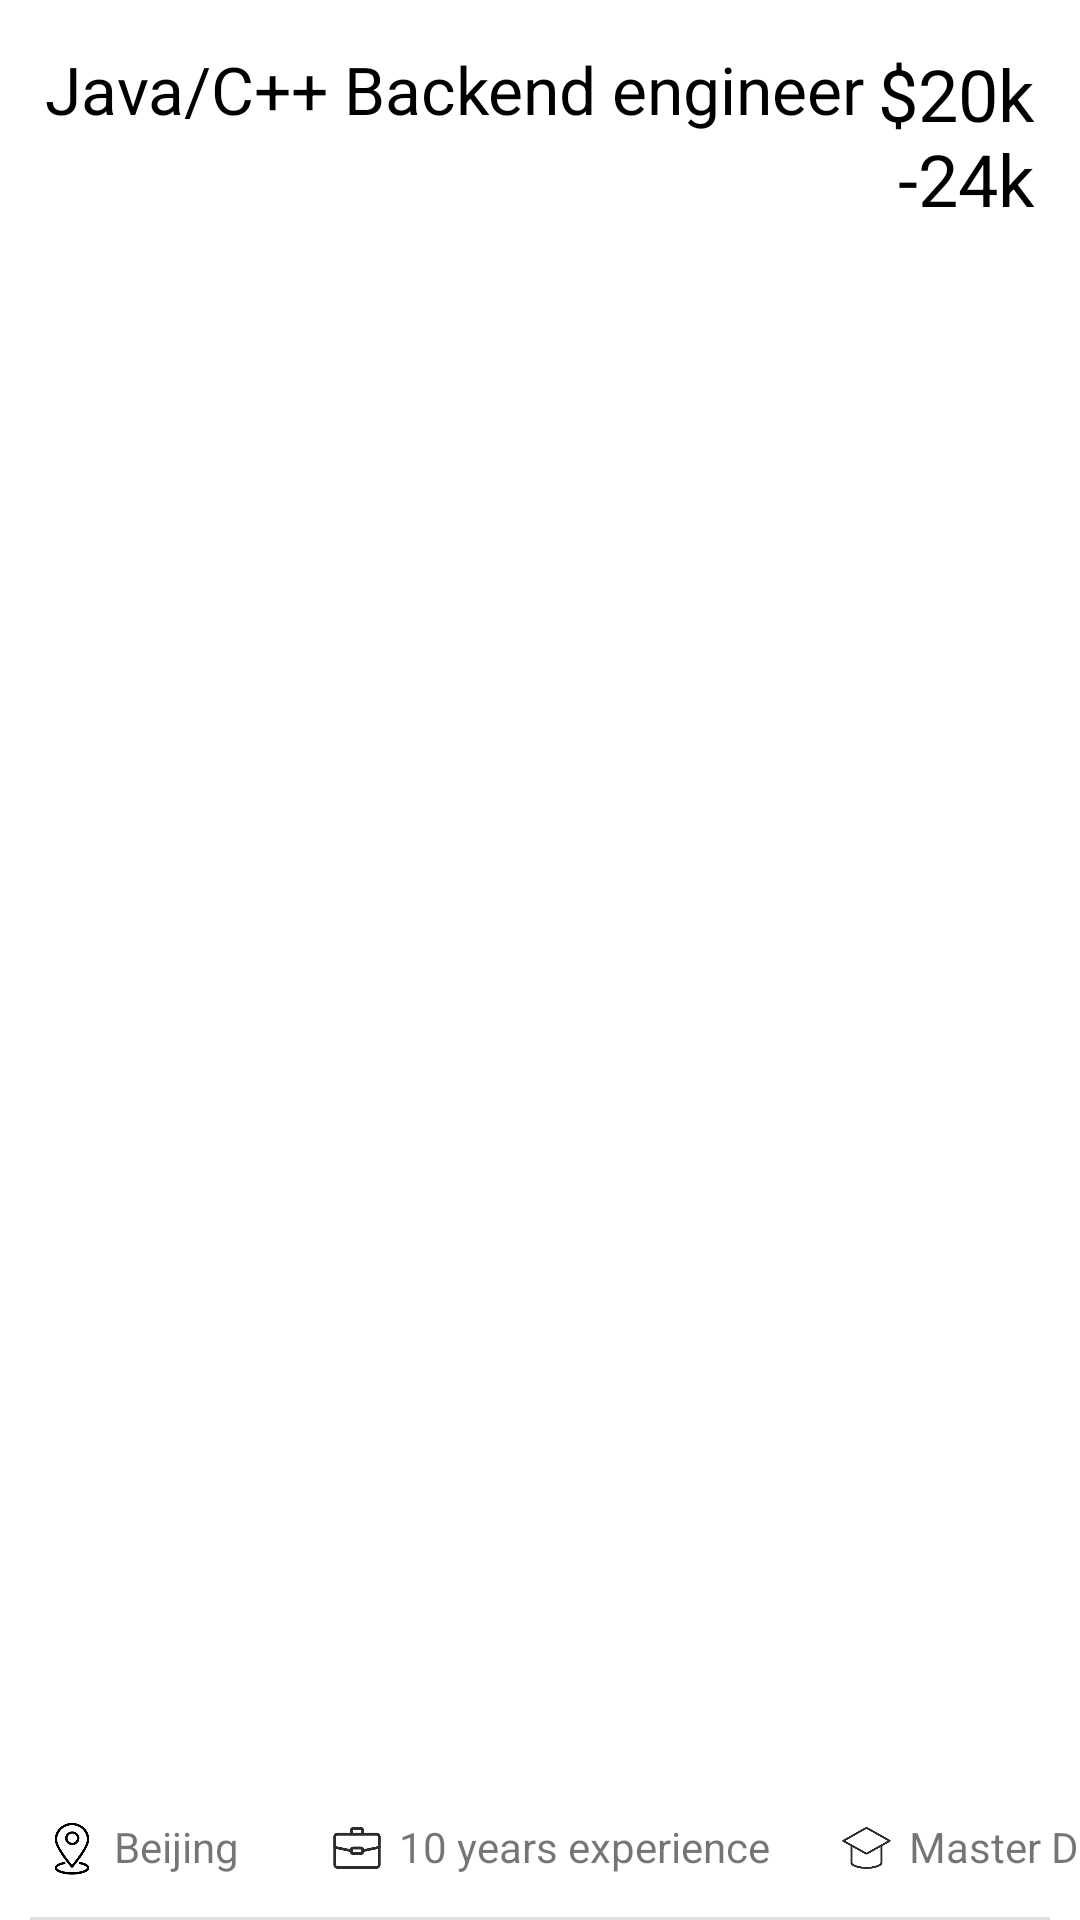

Icons on this 1080x1920 Android screen, each with its box as (x1, y1, x2, y2):
location: (55, 1823, 89, 1875)
work experience: (333, 1827, 381, 1869)
